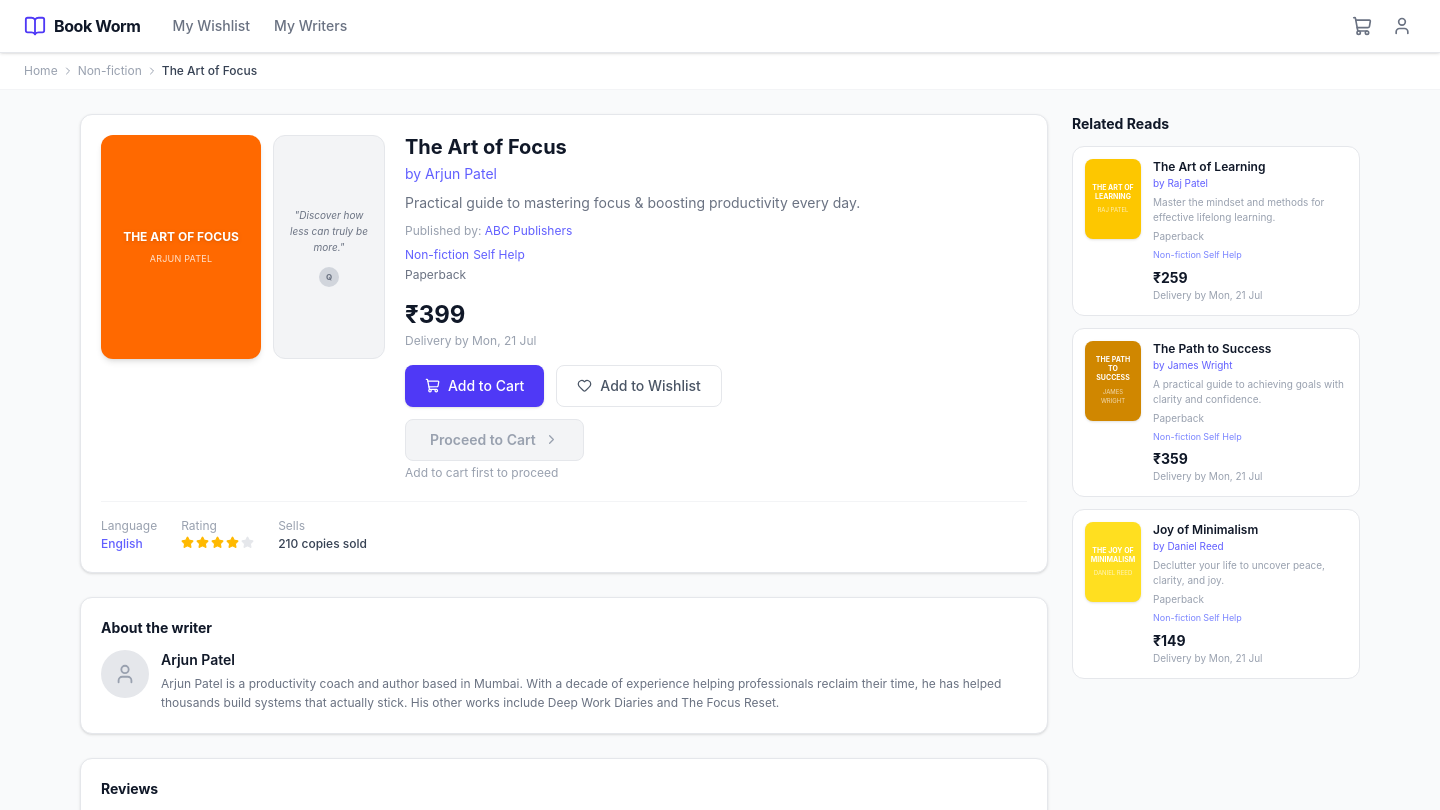
Test: ProductDetailPage › adds book to cart when Add to Cart button is clicked
Click the button "Add to Cart" at (475, 386), box [405,365,544,407]
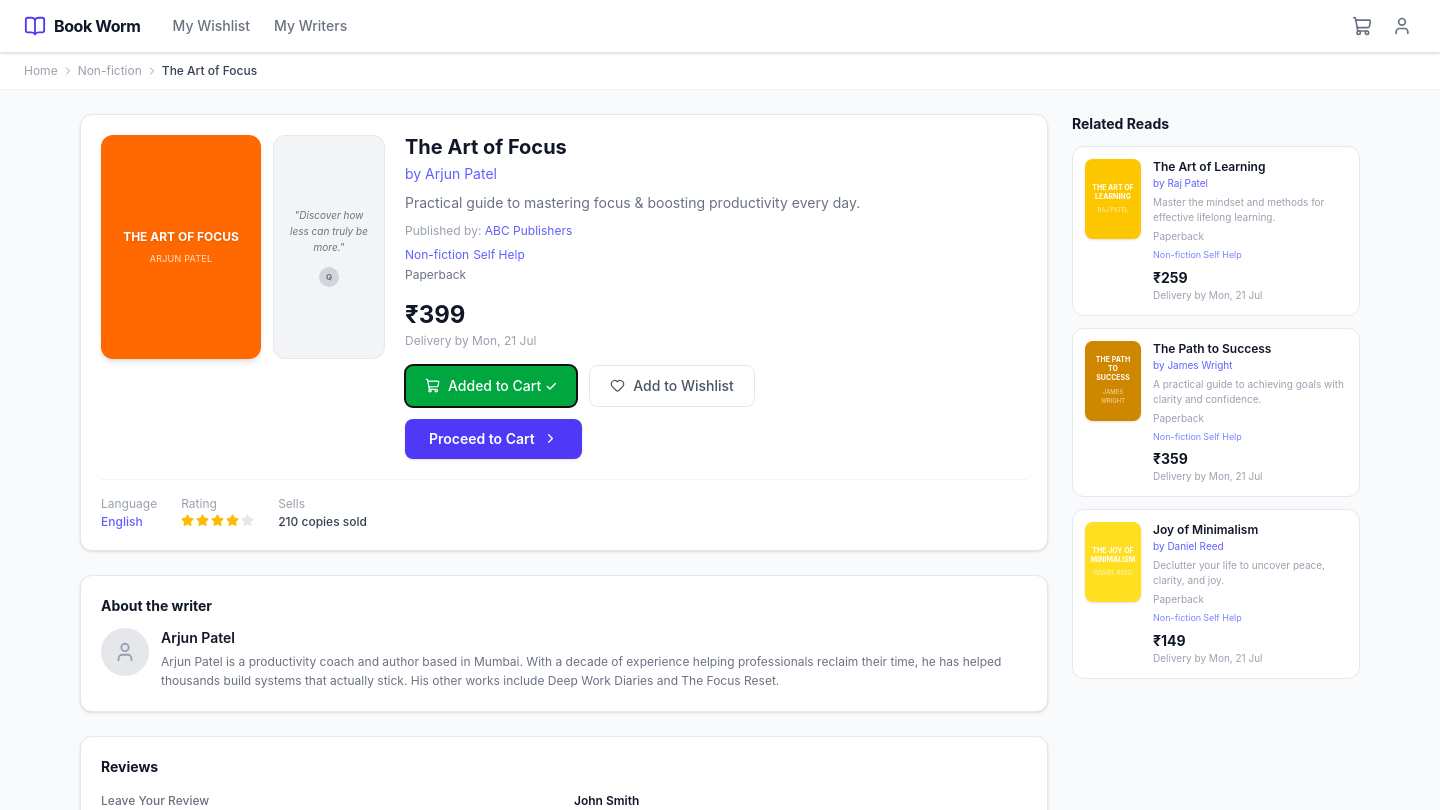
Now the button "Added to Cart ✓" is shown, box [405,365,577,407]
